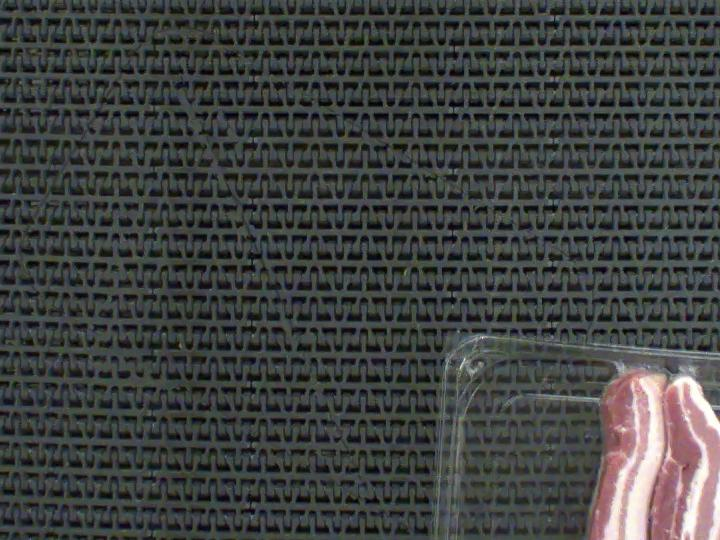packaging-error: (585, 345, 720, 425)
